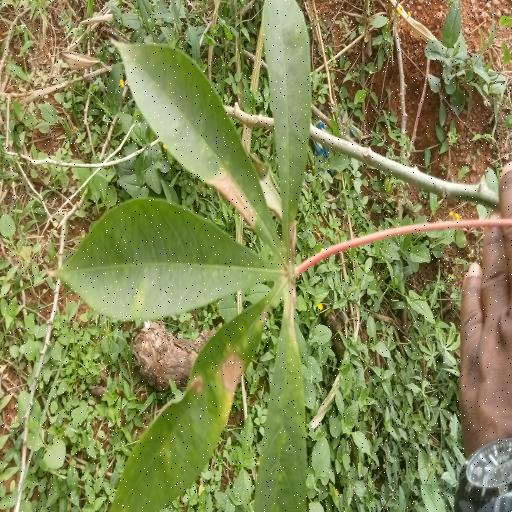Cassava_Root_Rot: (65, 2, 316, 512)
